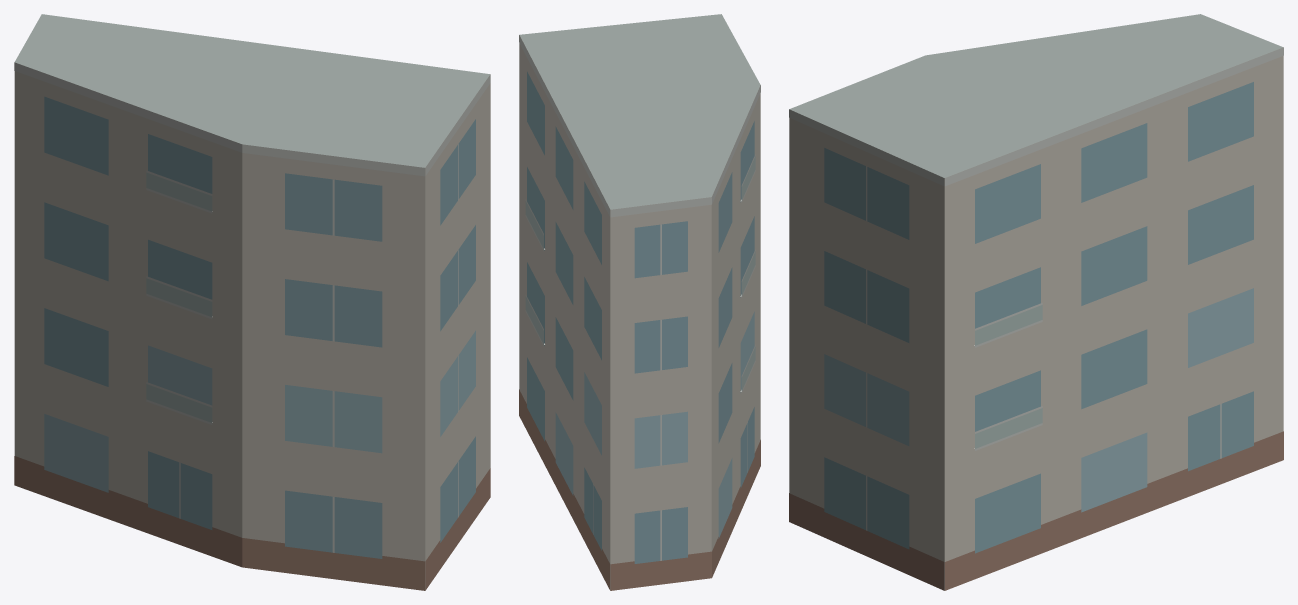
File: survey-upis-32485986.glb
The picture shows the model from 3 angles, left to right: view 1: azimuth 30°, elevation 25°; view 2: azimuth 150°, elevation 25°; view 3: azimuth 270°, elevation 25°; orthographic projection. The views are drawn at different scales.
Parts seen in each view (by area): view 1: survey-upis-32485986.tmp; view 2: survey-upis-32485986.tmp; view 3: survey-upis-32485986.tmp.
Boxes of the visible parts, bbox=[...] form: survey-upis-32485986.tmp: bbox=[14, 14, 490, 590]; survey-upis-32485986.tmp: bbox=[519, 14, 760, 590]; survey-upis-32485986.tmp: bbox=[789, 14, 1283, 590].
Size of the model in its own units: 10.33 by 12.1 by 13.15.
